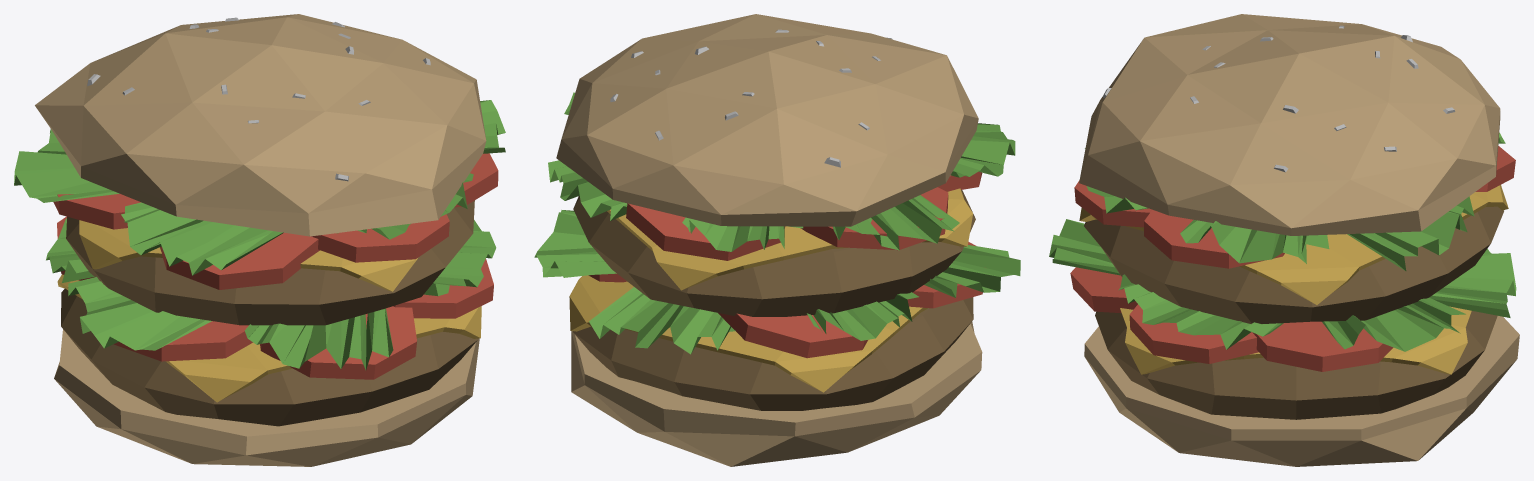
Rendered from BurgerLarge.glb.
3 renders of one model, left to right at view 1: azimuth 30°, elevation 25°; view 2: azimuth 150°, elevation 25°; view 3: azimuth 270°, elevation 25°, orthographic. The views are drawn at different scales.
Parts seen in each view (by area): view 1: BurgerLarge; view 2: BurgerLarge; view 3: BurgerLarge.
Part boxes in pixels (<box>): BurgerLarge: <box>14,14,505,466</box>; BurgerLarge: <box>534,14,1020,466</box>; BurgerLarge: <box>1049,14,1519,466</box>.
Size of the model in its own units: 1.72 by 1.45 by 1.67.
